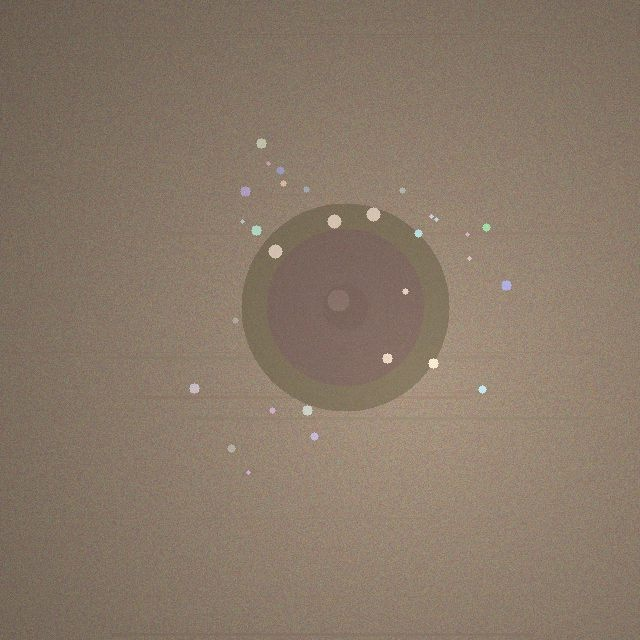overburn: (241, 203, 449, 411)
